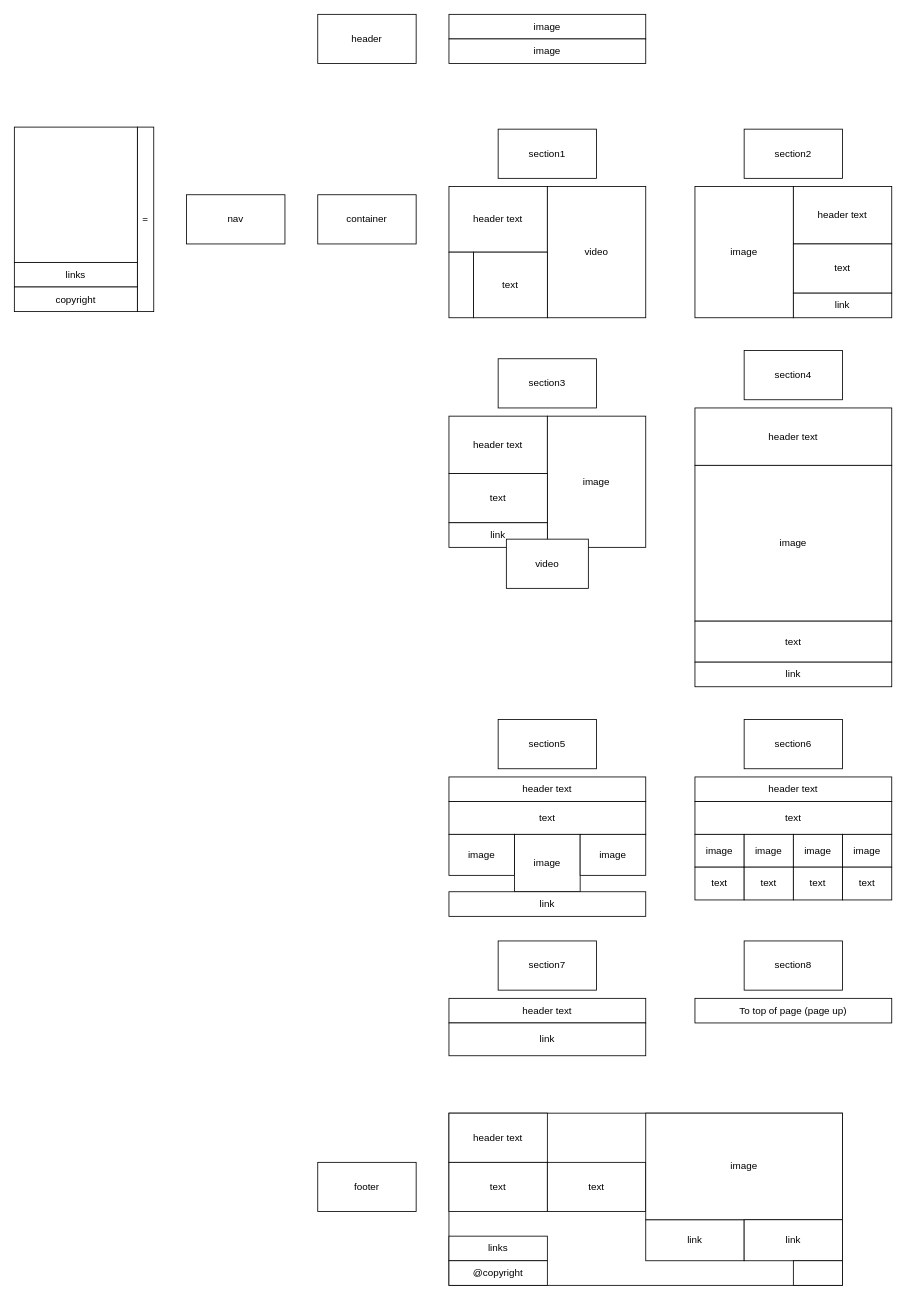
Image size: 906x1300. Some labels were removed from this diagram. The shapes that lost their labels are listed below. From the top down, each one's centre as x and y in pixels, then its label:
At (75,194): "menus".
At (461,284): "img".
At (818,1272): "author".
